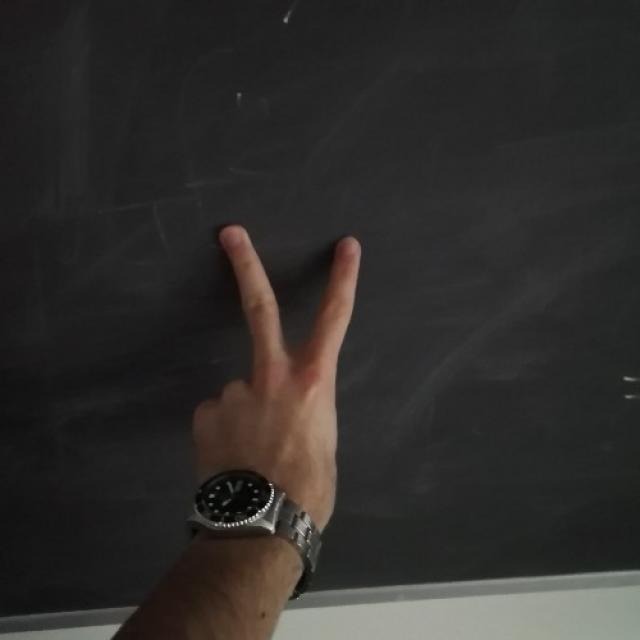scissors: (187, 220, 362, 500)
